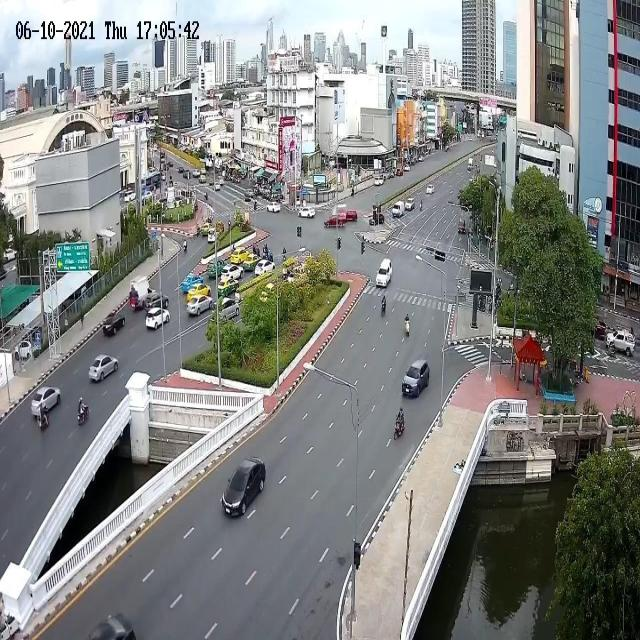Bus: (141, 171, 162, 192)
Car: (222, 457, 266, 519), (86, 612, 136, 640), (402, 358, 430, 396), (30, 386, 61, 418), (88, 354, 118, 382), (216, 298, 240, 324), (186, 295, 214, 317), (146, 307, 170, 330), (144, 290, 168, 312), (186, 284, 212, 304), (376, 258, 393, 288), (103, 314, 126, 336), (14, 339, 36, 361), (220, 264, 244, 284), (253, 258, 276, 278), (181, 273, 204, 293), (217, 279, 240, 298), (206, 259, 226, 279), (230, 246, 249, 264), (324, 213, 346, 228), (243, 253, 262, 270), (298, 205, 315, 218), (392, 201, 405, 218), (267, 201, 281, 213), (345, 210, 358, 222), (124, 190, 136, 202), (404, 198, 415, 211), (202, 223, 212, 236), (458, 218, 466, 234), (244, 188, 254, 198), (374, 177, 384, 186), (216, 220, 224, 231), (426, 185, 434, 195), (183, 169, 191, 179), (396, 168, 404, 177), (198, 174, 206, 183), (214, 182, 221, 191), (404, 164, 411, 171), (418, 155, 424, 162), (179, 167, 184, 172), (168, 162, 174, 166)
Cycle: (393, 414, 406, 441), (78, 401, 89, 427), (39, 406, 49, 432), (404, 318, 410, 338), (477, 299, 486, 312), (381, 299, 386, 317), (183, 240, 188, 252), (419, 202, 423, 211)
Truck: (130, 276, 156, 308), (605, 329, 635, 356)
